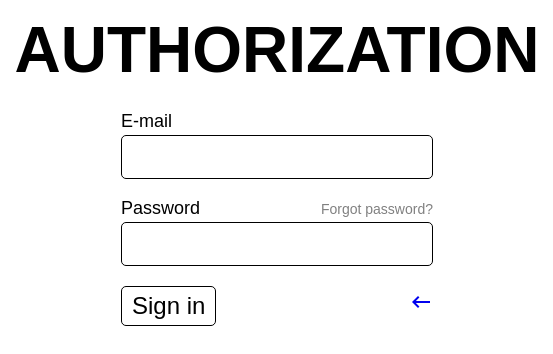
it: Authorization › Authorization with invalid data › Submit with invalid email and valid password
Type "costincometestuser" into the field with id "email".
click(277, 157); type("costincometestuser")  # box [121,135,433,179]
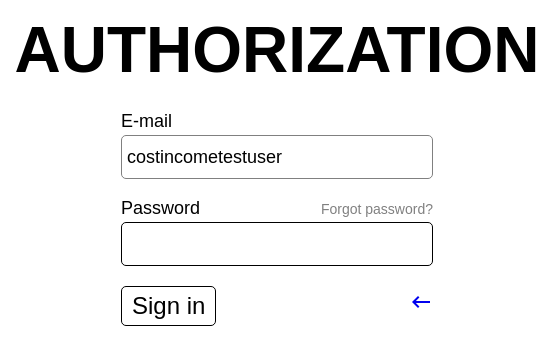
Type "password" into the password field labelled "Password".
click(277, 244); type("password")  # box [121,222,433,266]
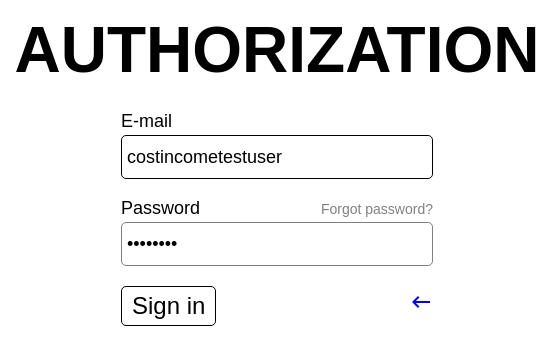
Submit the form, box [121,112,433,326]
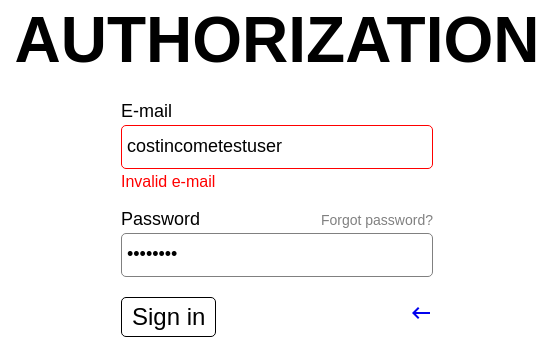
Expected: the text "Invalid e-mail" is shown, [121,172,215,190]
